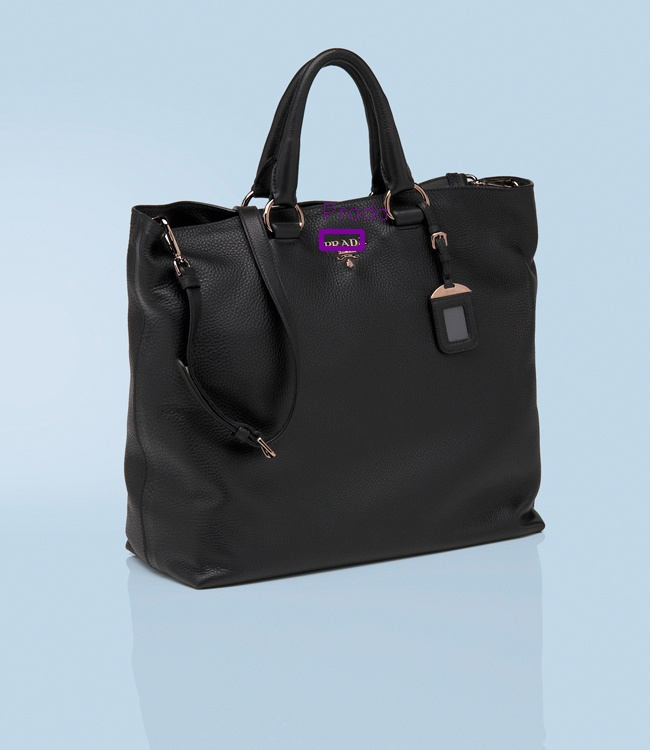Prada: (316, 229, 377, 271)
